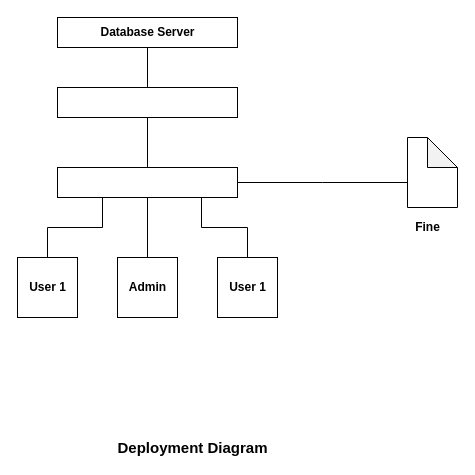
This 475x475 diagram has some shape labels left out. The shapes that lost their labels are listed below. From the top down, each one's centre as x and y in pixels, then its label:
At pixel 147 102: "Application server".
At pixel 147 182: "Library Management Web Server".
